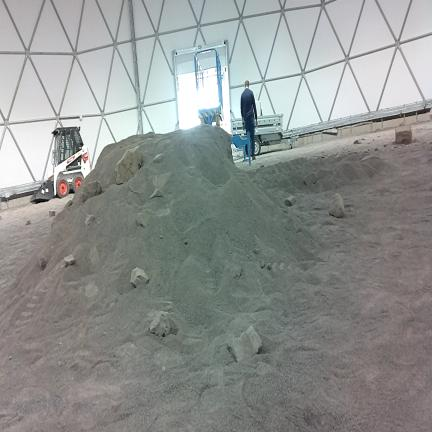Rock: (228, 326, 261, 362), (115, 146, 141, 185), (150, 311, 178, 336), (82, 181, 102, 202), (329, 194, 344, 217), (131, 268, 149, 287), (396, 126, 412, 144), (303, 172, 318, 186), (230, 265, 241, 279), (38, 254, 48, 269), (284, 194, 296, 206), (137, 213, 146, 227), (64, 255, 75, 266), (151, 189, 162, 199), (85, 215, 94, 227), (153, 154, 164, 163), (253, 247, 260, 254), (65, 200, 72, 207), (267, 264, 272, 270), (49, 211, 55, 216), (261, 261, 265, 268), (354, 140, 360, 144), (8, 356, 12, 361), (26, 221, 31, 225), (361, 138, 365, 141), (384, 144, 387, 148), (430, 109, 431, 119), (375, 148, 378, 151), (0, 216, 1, 220)
